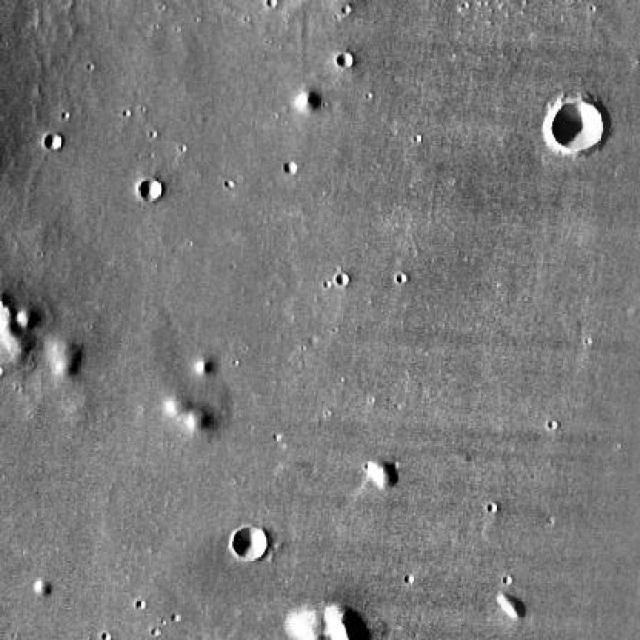crater: (552, 102, 606, 153), (232, 526, 265, 556), (140, 179, 163, 201), (45, 136, 63, 152), (336, 54, 352, 69)
